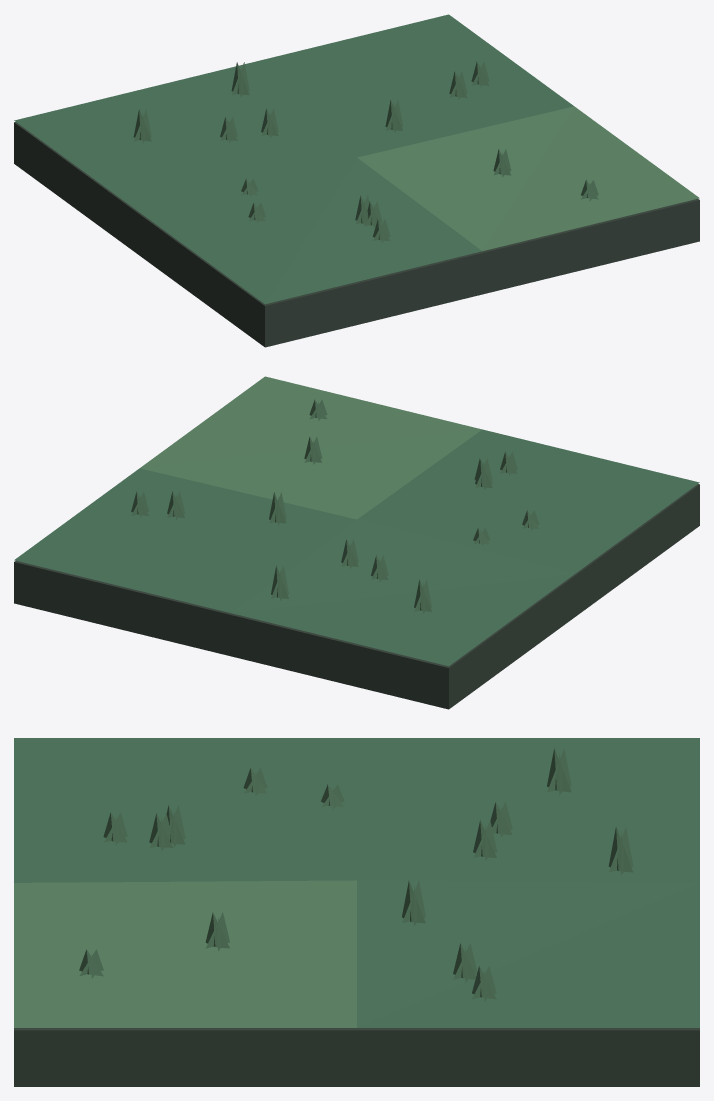
File: EG_Suelo_Cesped_2m.fbx
3 views of the same model, one above another, from view 1: azimuth 30°, elevation 25°; view 2: azimuth 150°, elevation 25°; view 3: azimuth 270°, elevation 25° (orthographic). The views are drawn at different scales.
Visible parts, largest first — view 1: EG_Suelo_Cesped_2m; view 2: EG_Suelo_Cesped_2m; view 3: EG_Suelo_Cesped_2m.
Boxes of the visible parts, x1,y1,x2,y2 form: EG_Suelo_Cesped_2m: [14, 14, 699, 347]; EG_Suelo_Cesped_2m: [14, 376, 699, 709]; EG_Suelo_Cesped_2m: [14, 738, 699, 1086].
Size of the model in its own units: 2 by 0.3263 by 2.
Materials: 1 (1 with a texture image).
